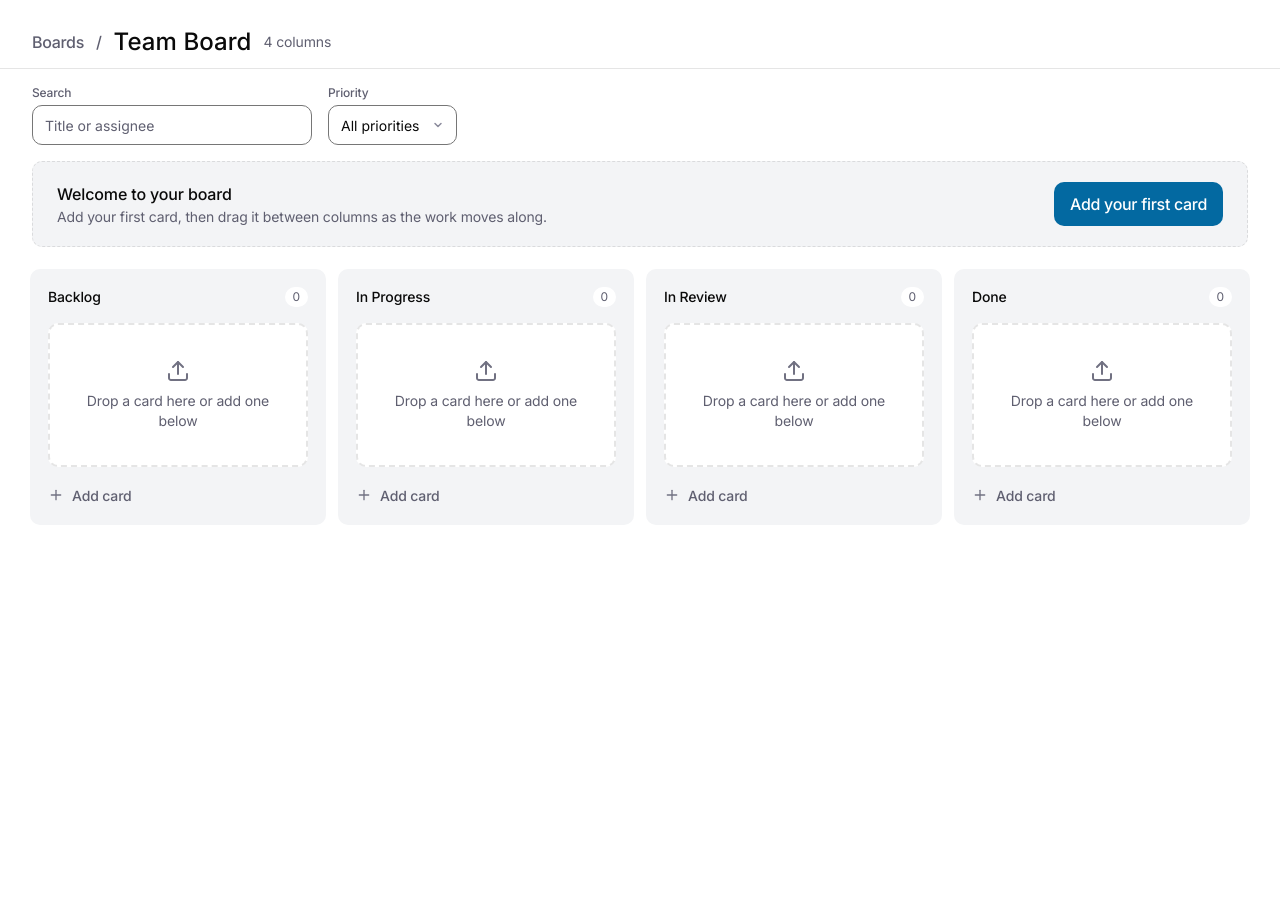
Board › warns when saving fails
The width and height of the screenshot is (1280, 900).
Click the button "Add card" below "Backlog": [102, 495] box [48, 483, 308, 507]
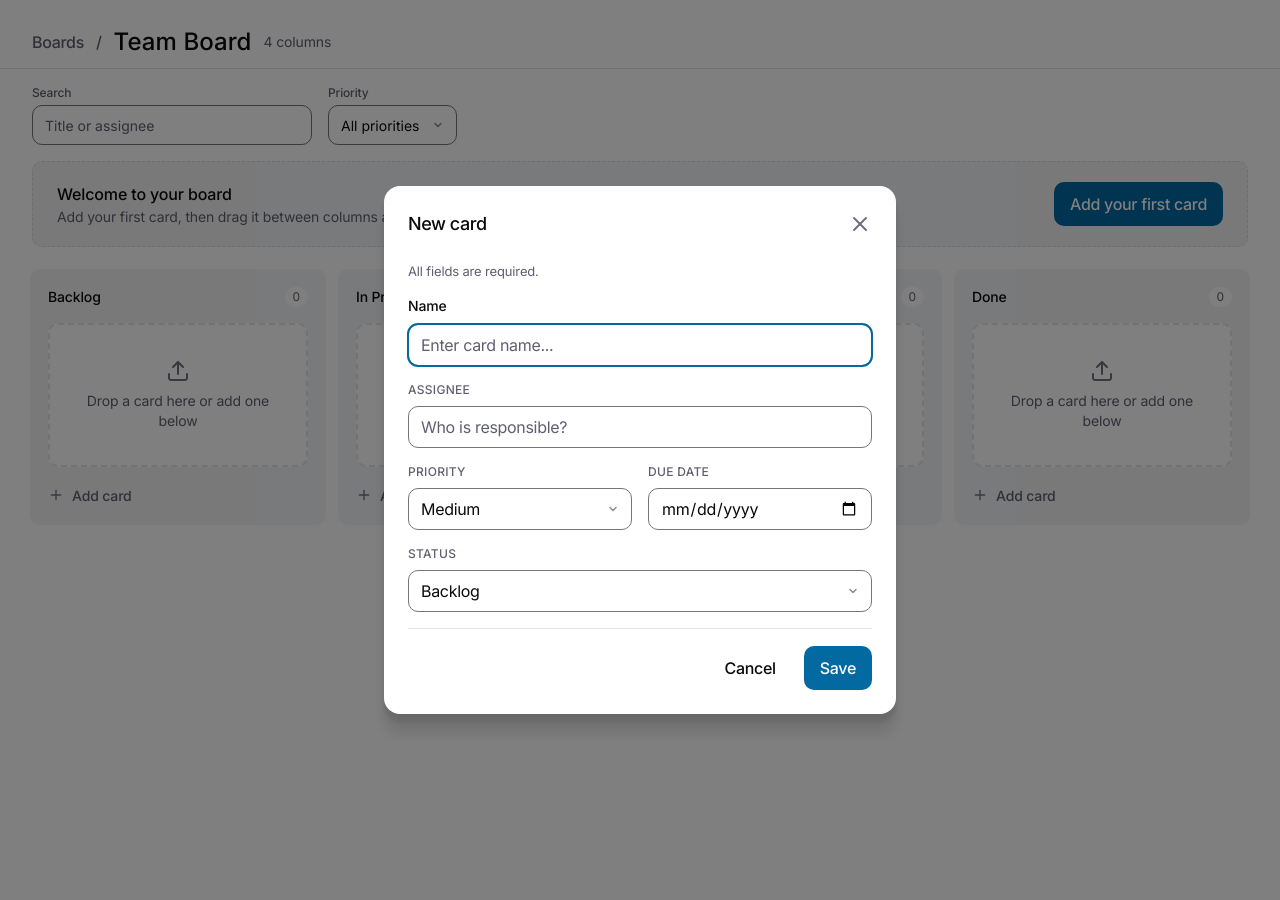
In the field labelled "Name": [640, 345] box [408, 324, 872, 366], type "Write docs"
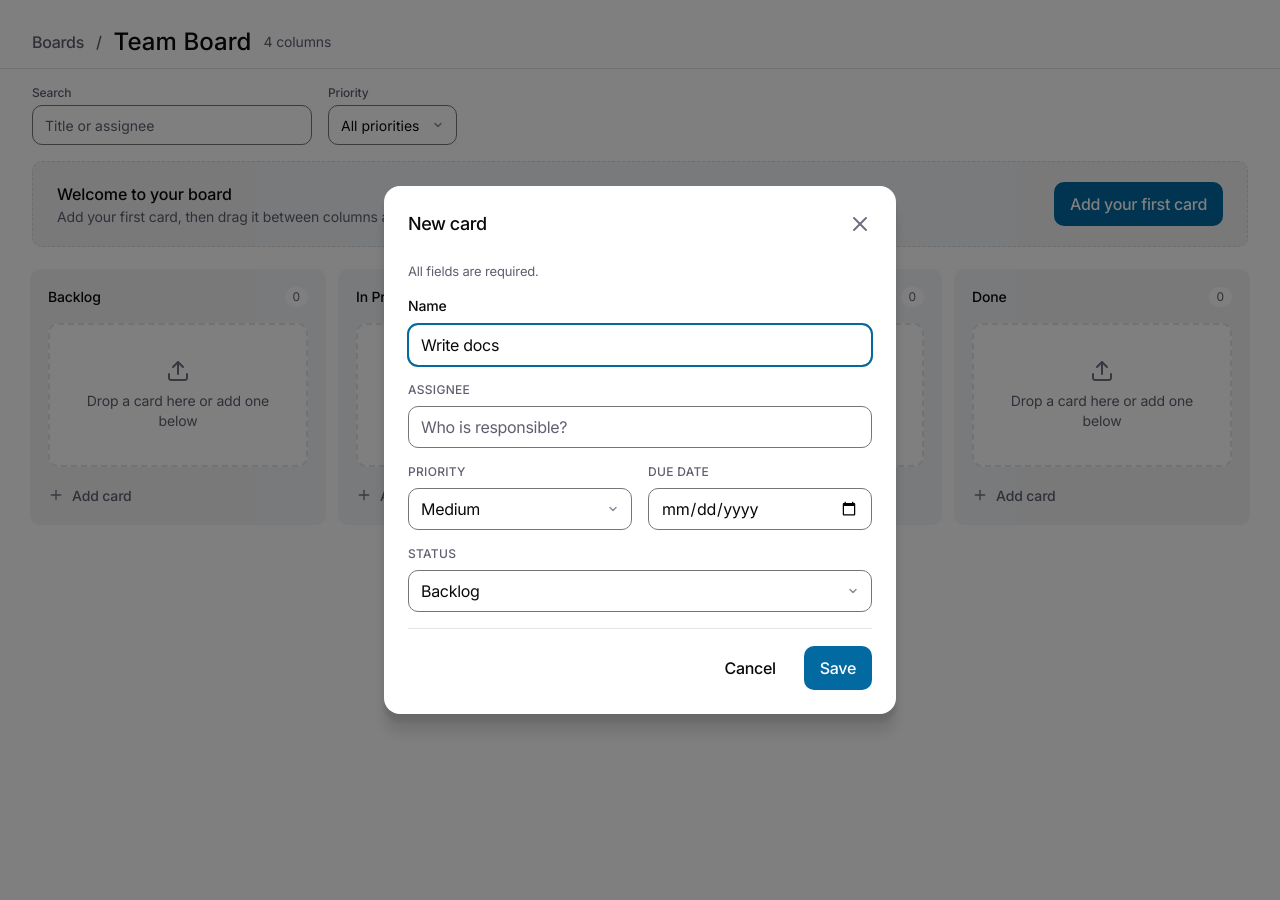
In the field labelled "Assignee": [640, 427] box [408, 406, 872, 448], type "Sam"
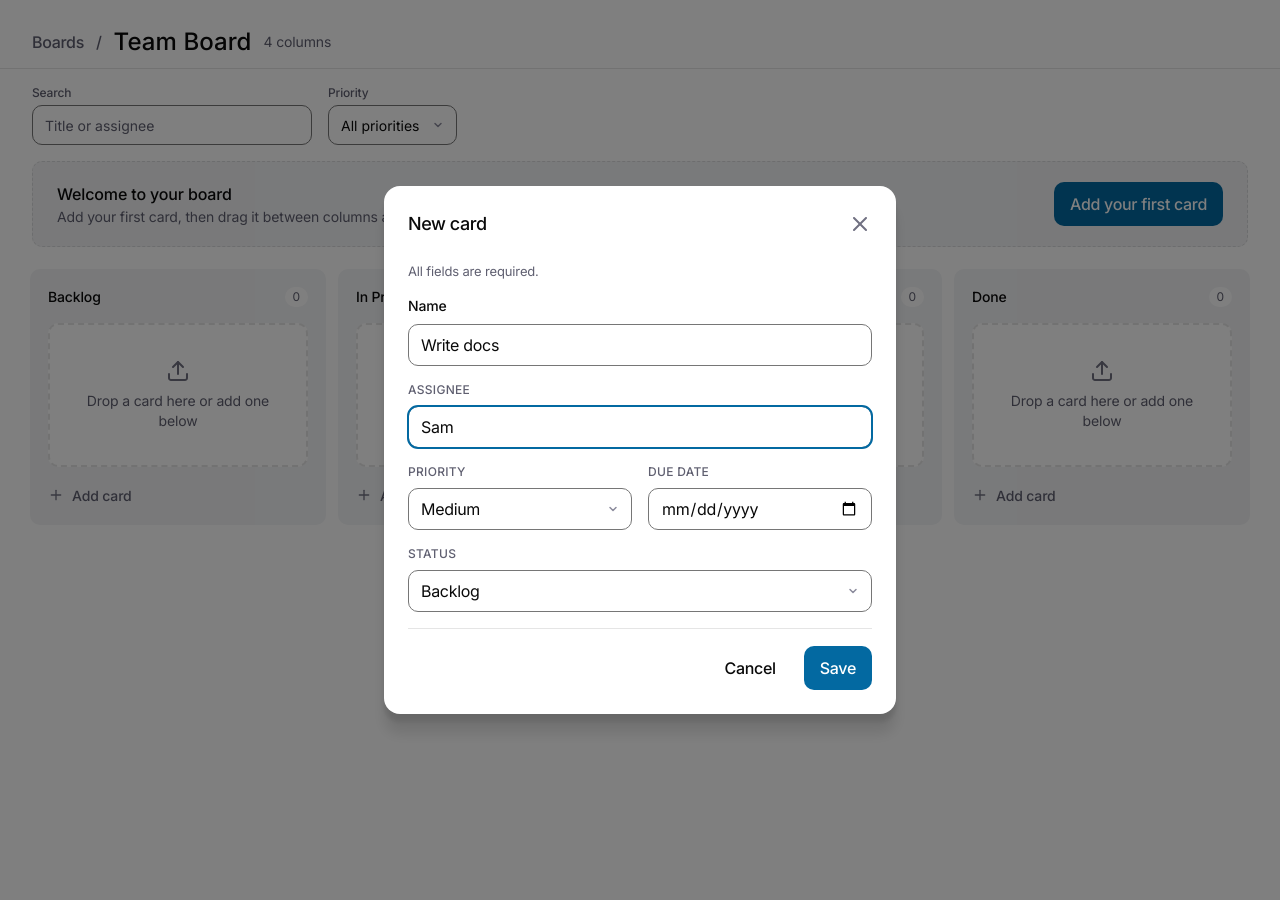
In the date field labelled "Due date": [760, 509] box [648, 488, 872, 530], type "2030-05-01"
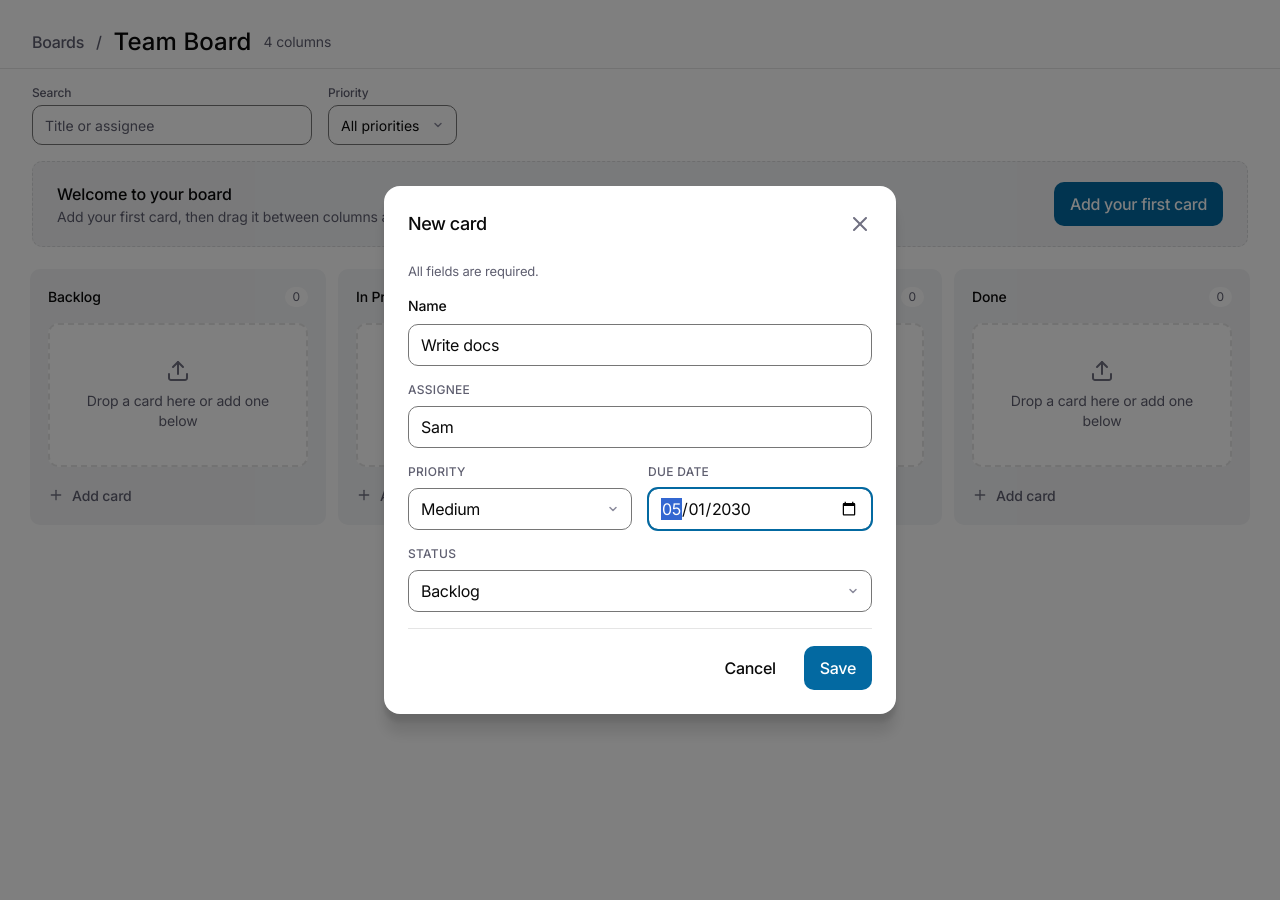
Click the button "Save": [838, 668] box [804, 646, 872, 690]
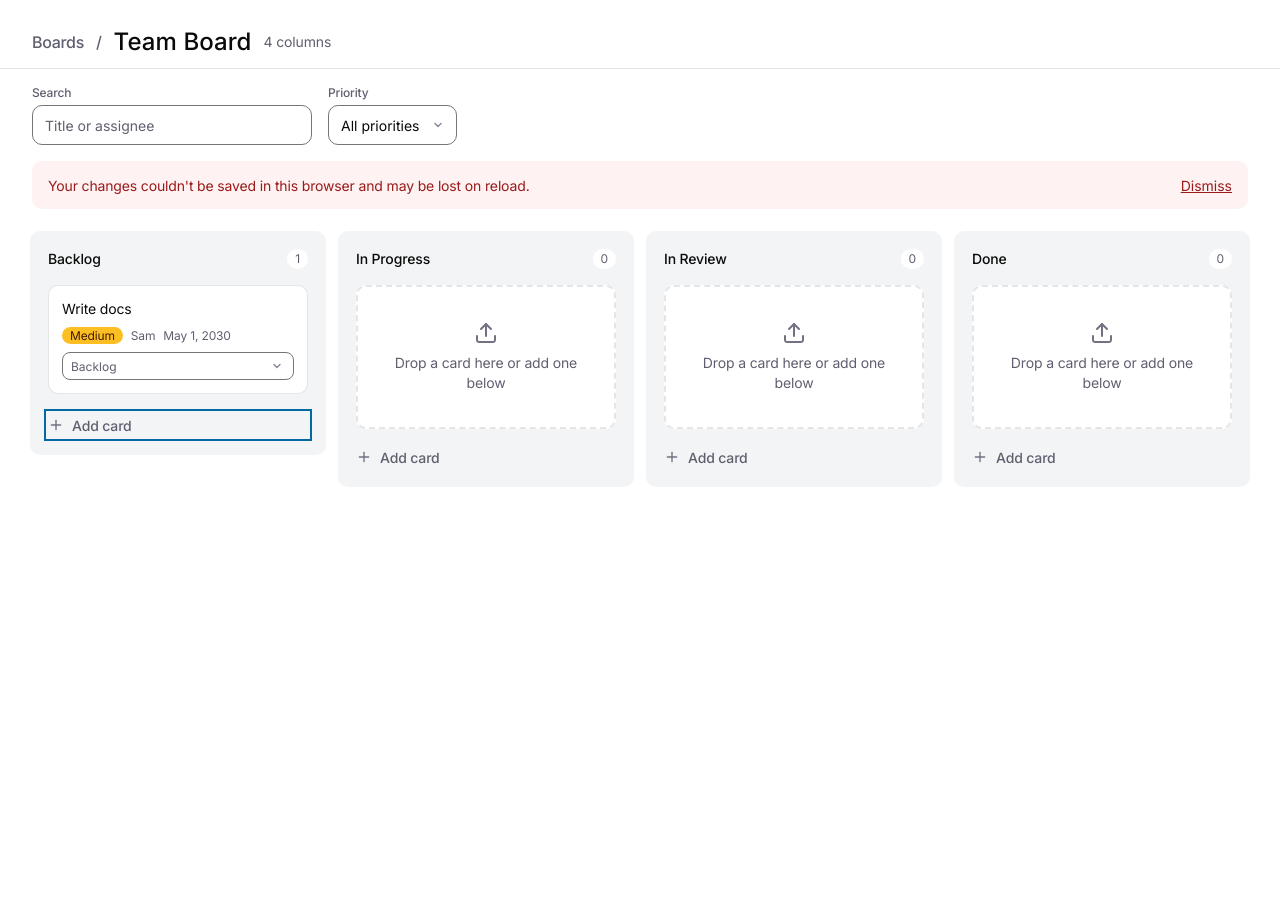
Expected: the message shows "couldn't be saved", [48, 176, 530, 194]
